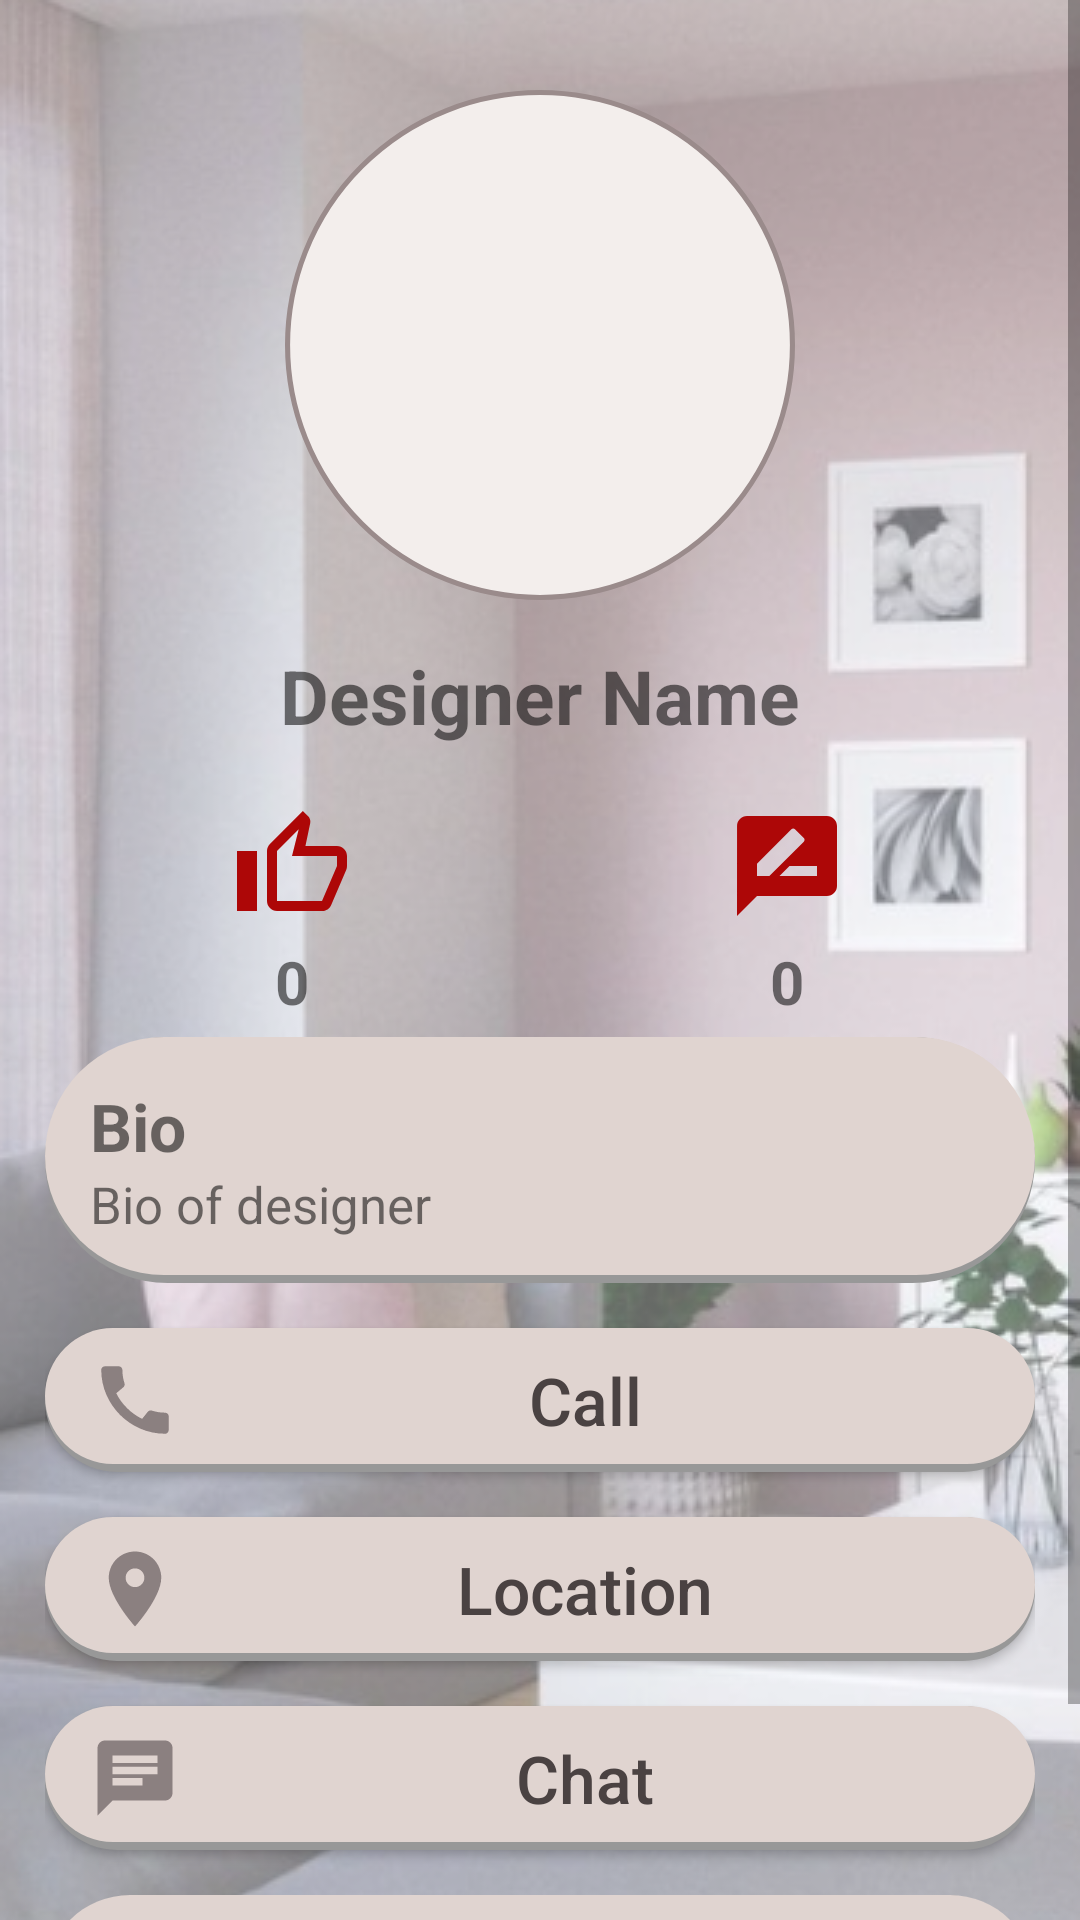

Screen size 1080*1920. Icon name, then its center in pixels as [x,y]:
rate review: [799,866]
thumb up: [292,866]
